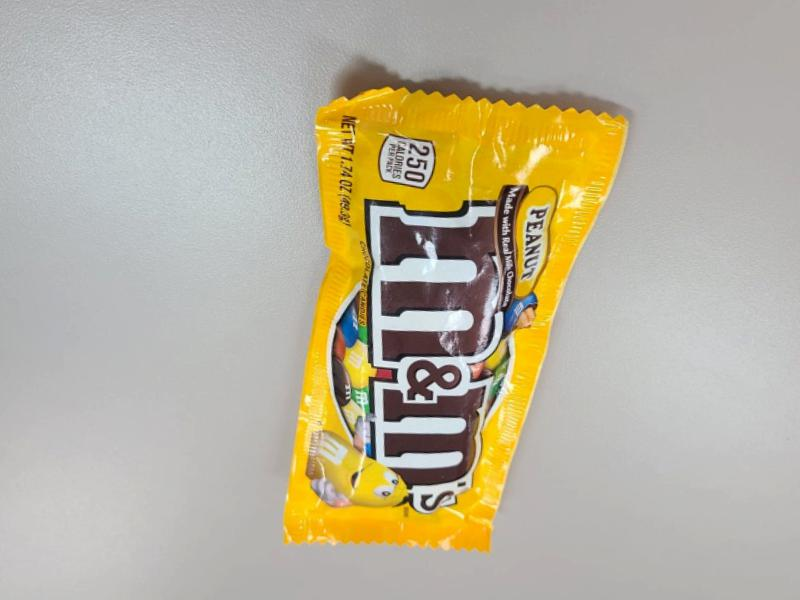m&m: (285, 70, 630, 534)
